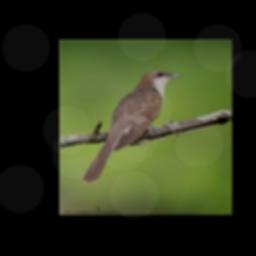Cuckoo: (83, 70, 184, 182)
